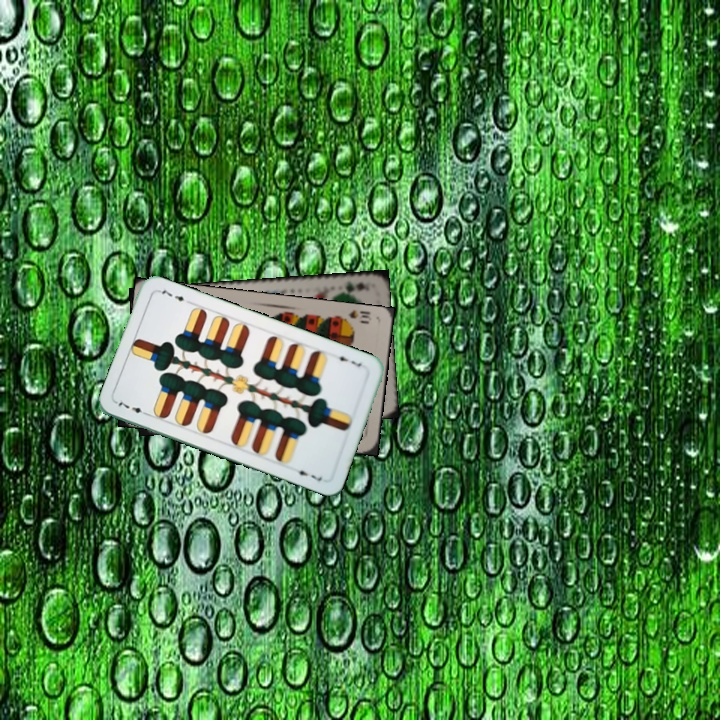E7: (112, 396, 151, 418), (331, 350, 364, 369)
GK: (333, 278, 373, 296)
S10: (336, 306, 374, 326)
